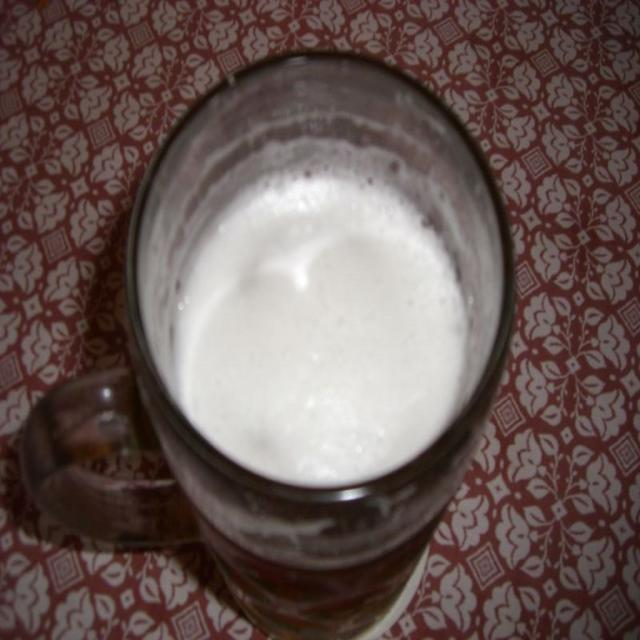Milk: (175, 155, 471, 491)
